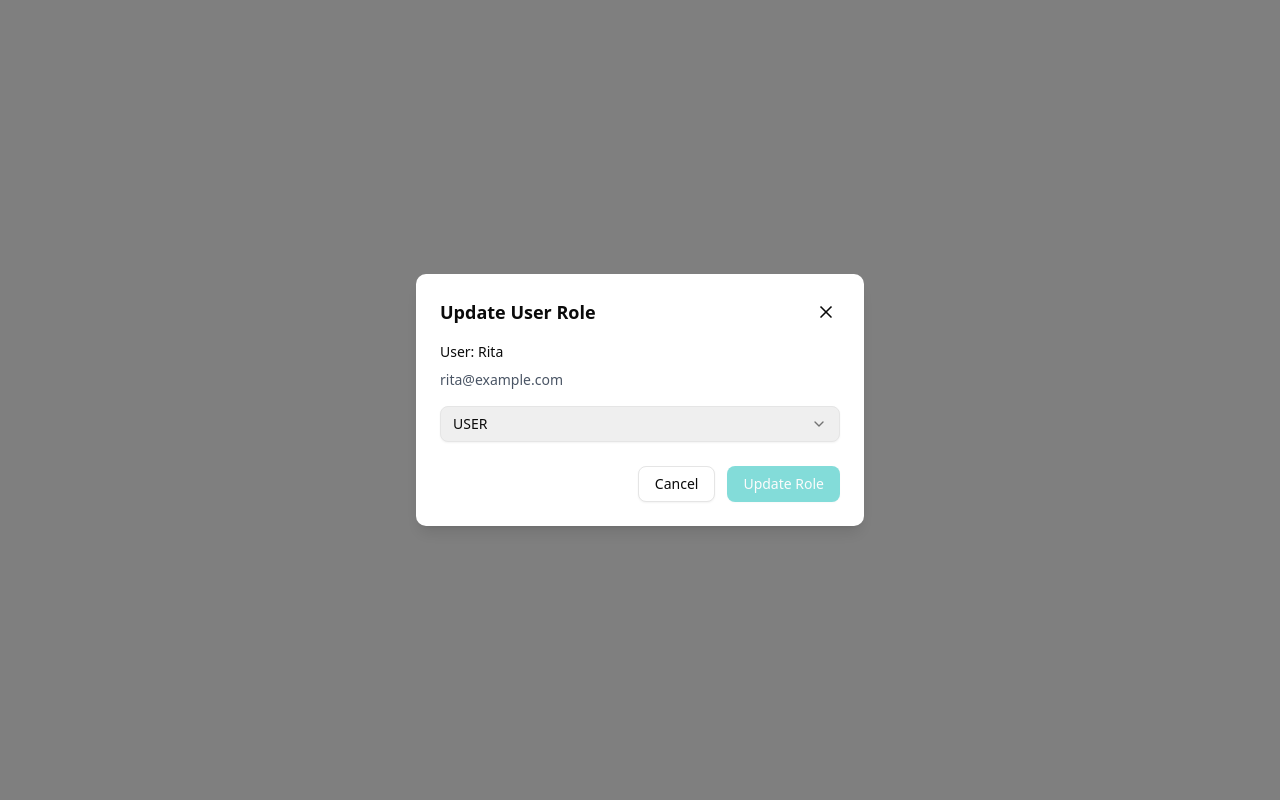
Test: RoleUpdateModal › offers exactly the three roles the API knows
Click the dropdown: coordinates (470, 424) x1=440 y1=406 x2=840 y2=442
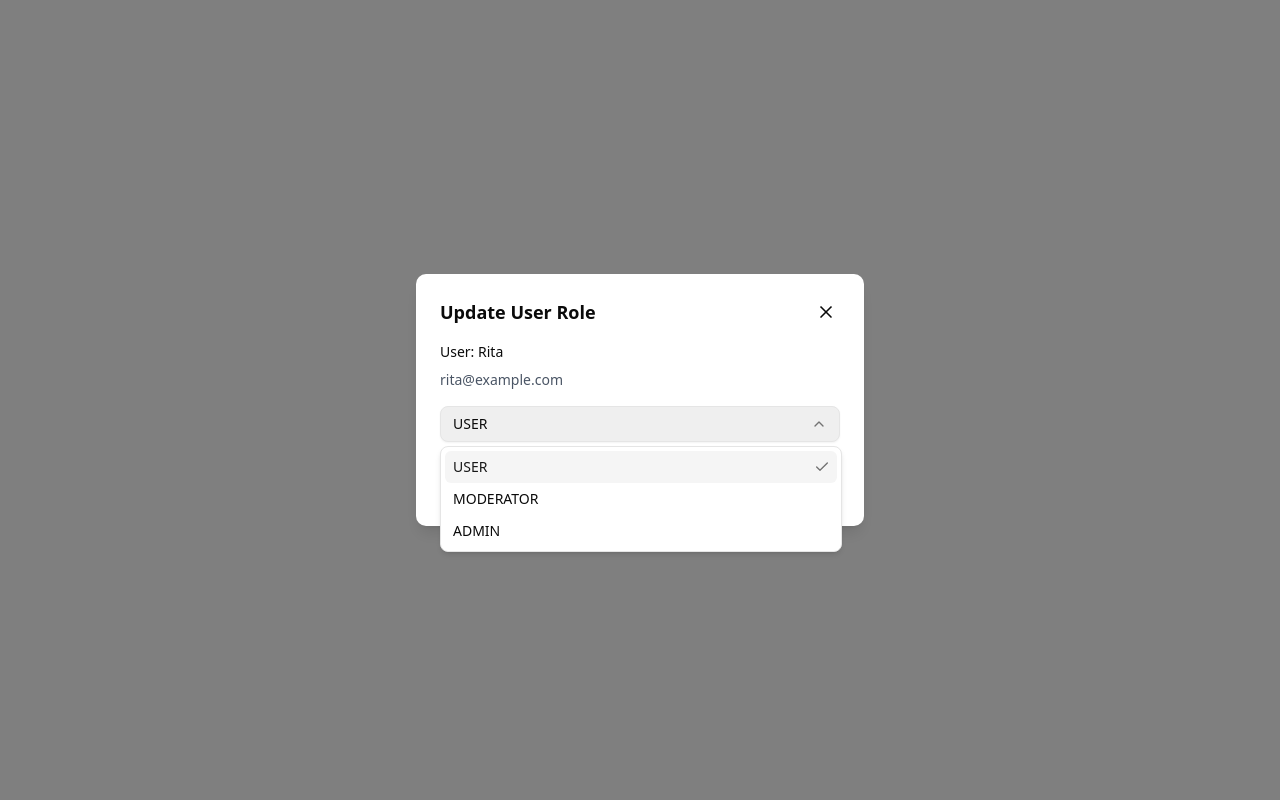
Now the options read "USER", "MODERATOR", "ADMIN", in this order, box x1=445 y1=451 x2=837 y2=483; x1=453 y1=489 x2=538 y2=508; x1=453 y1=521 x2=500 y2=540
